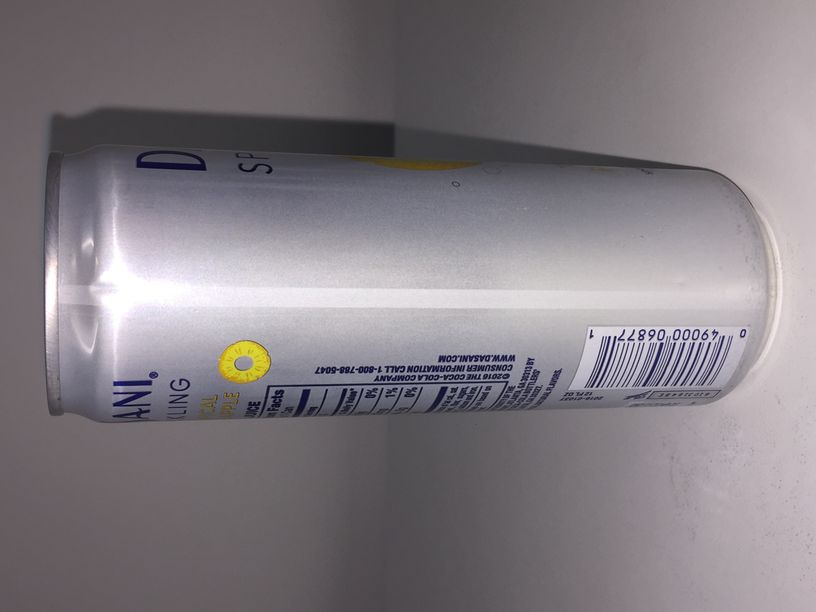pineapple: (45, 144, 777, 422)
